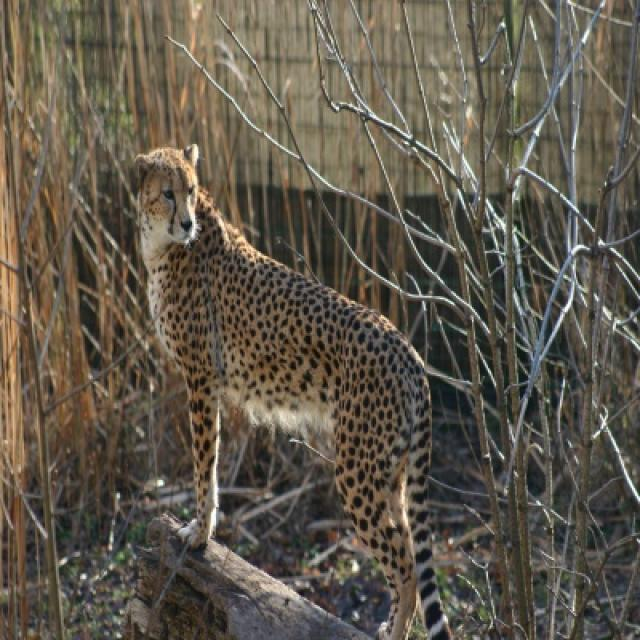Cheetah: (139, 144, 450, 638)
